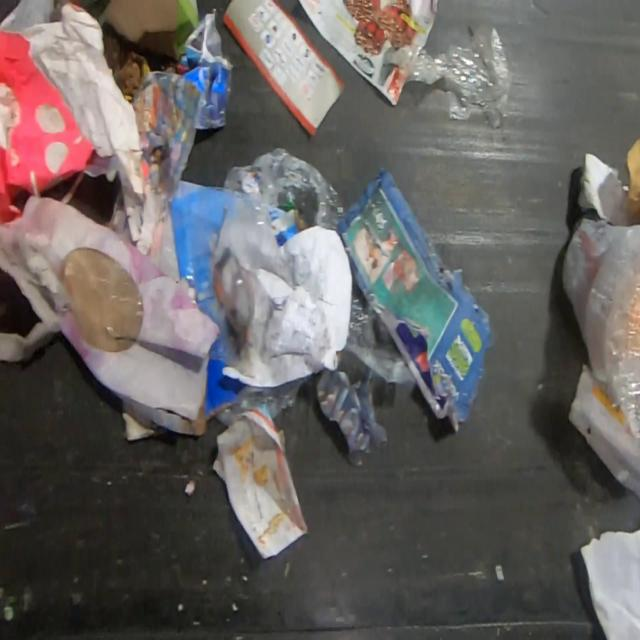cardboard: (0, 193, 222, 436), (337, 164, 495, 432), (0, 0, 146, 226), (98, 0, 199, 61), (577, 136, 640, 224)
soft_plastic: (560, 212, 639, 438), (384, 20, 513, 129), (221, 145, 347, 230), (345, 291, 412, 384), (213, 373, 311, 428)
